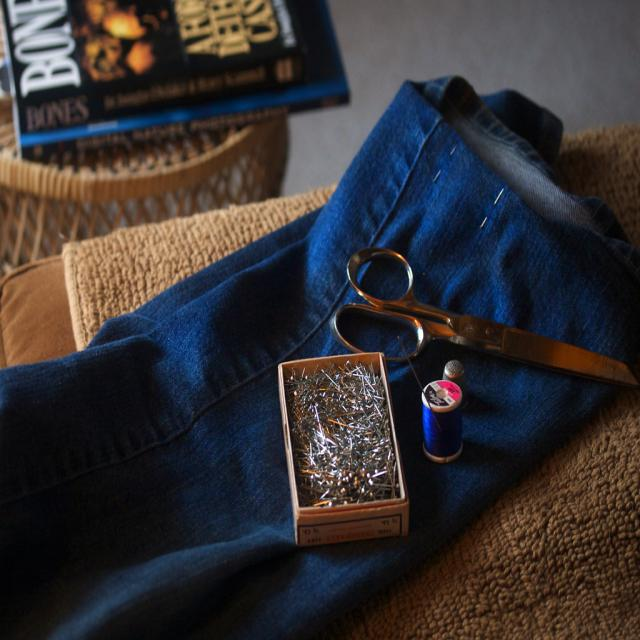scissors: (331, 246, 638, 390)
